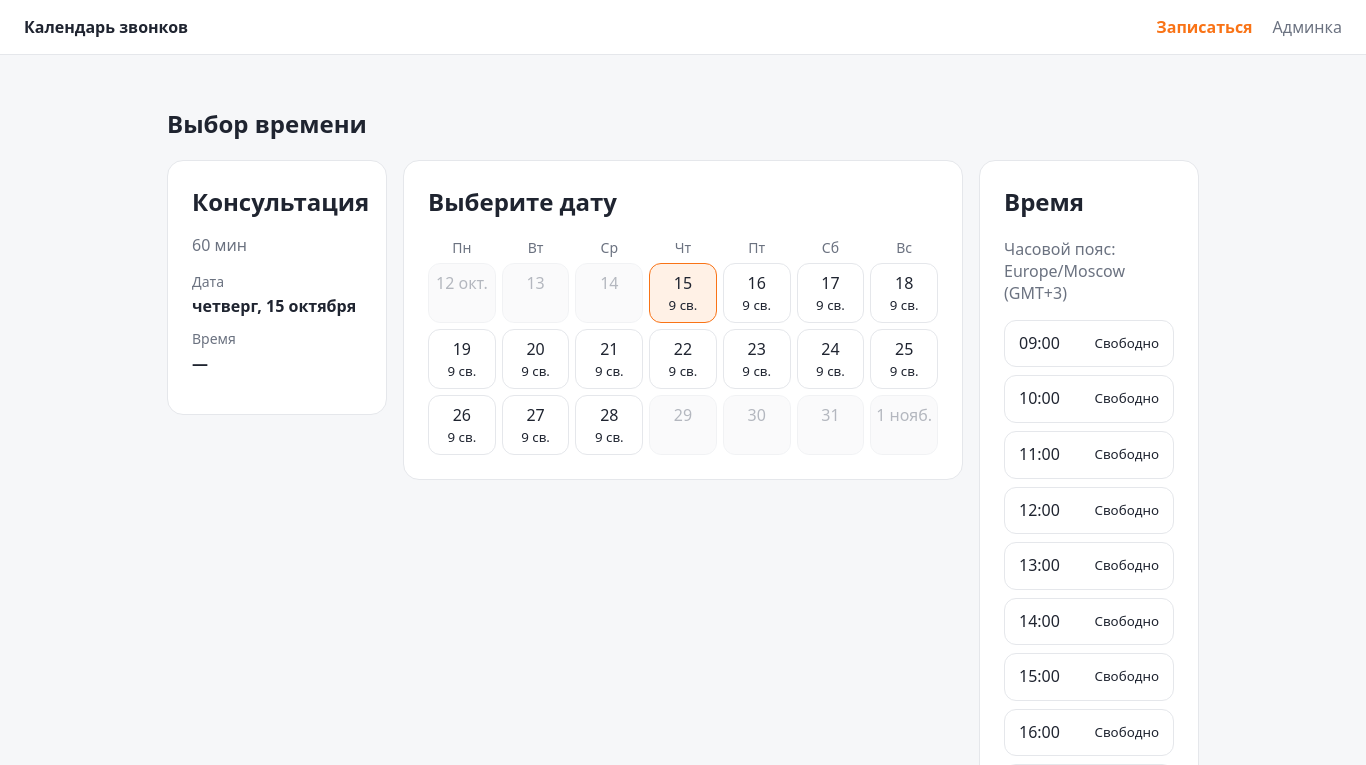
Test: slot picker › enables Continue only after picking a free slot and shows it in the summary with the zone
This screenshot has width=1366, height=765.
expect the heading "Выбор времени" is shown: met, box [167,107,367,140]
expect the text "—" is shown once: met, box [192,352,208,374]
Click the button "12:00 Свободно": (1089,510) [1004,486,1174,534]
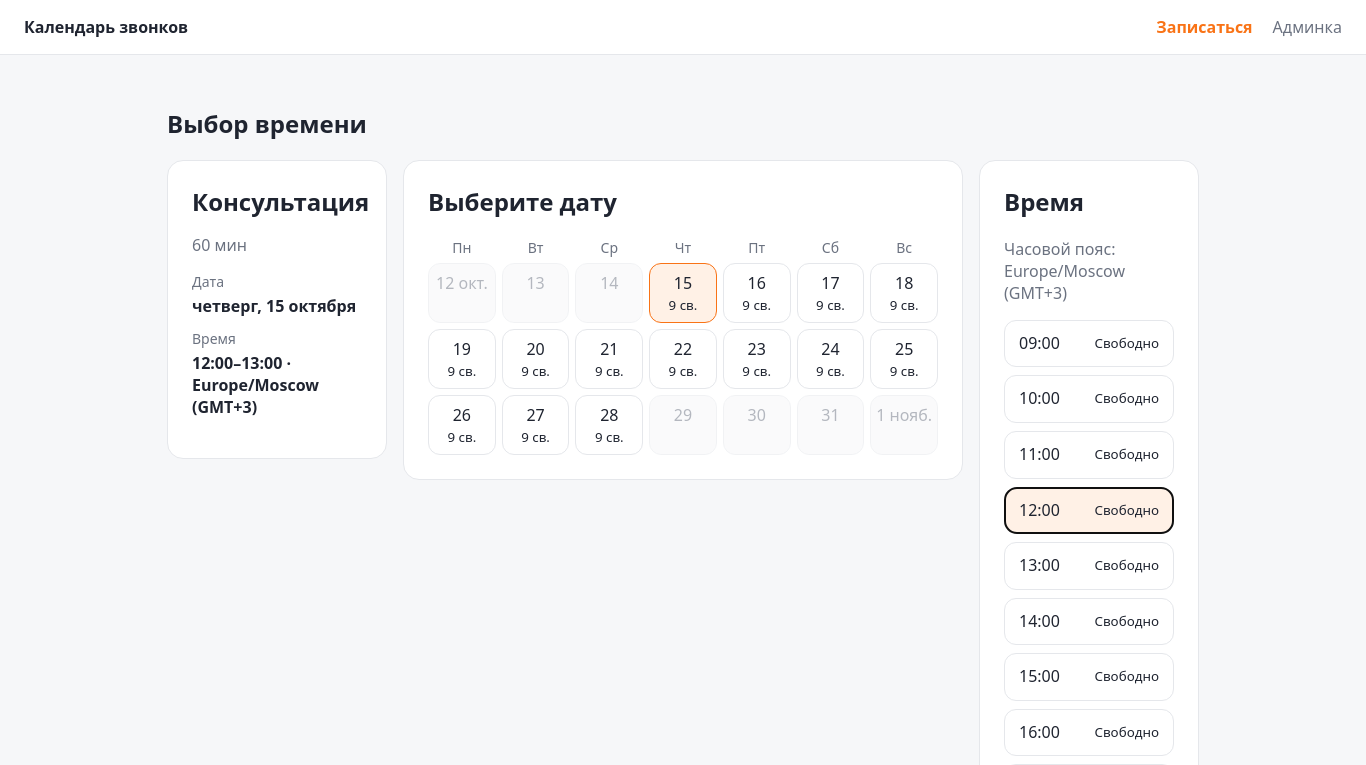
expect the text "Часовой пояс: Europe/Moscow (GMT+3)" is shown: met, box [1004,238,1125,304]
expect the text "12:00–13:00 · Europe/Moscow (GMT+3)" is shown: met, box [192,352,319,418]
